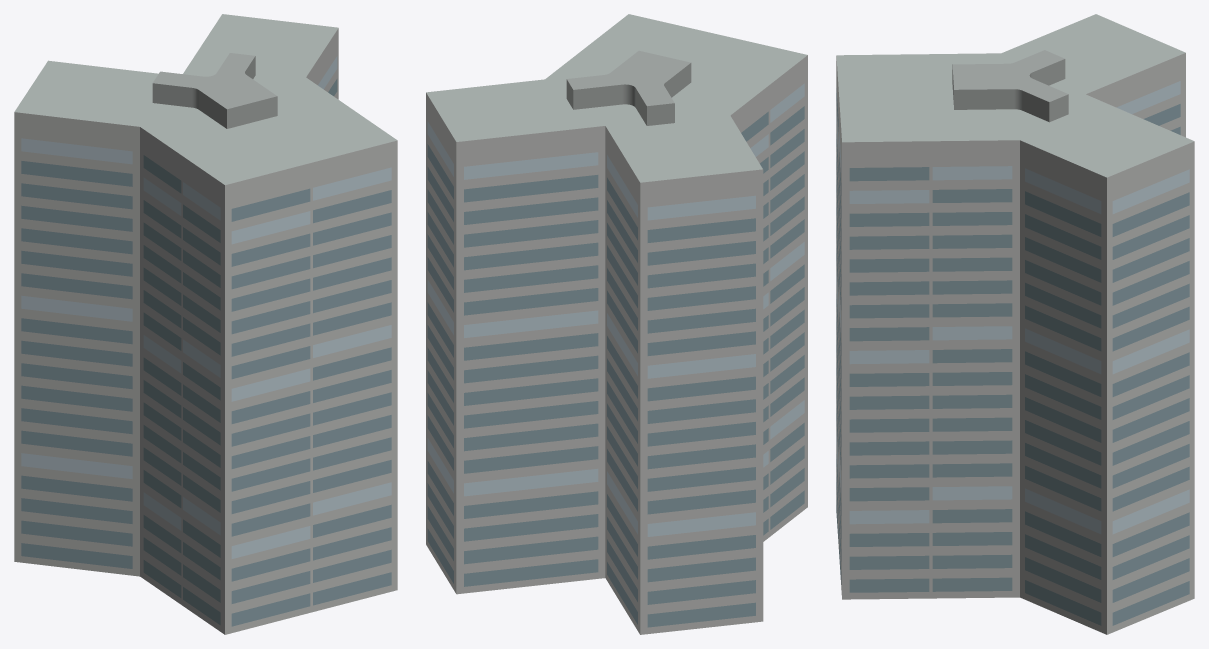
File: fallback-godeok-ipark-108.glb
3 views of the same model, side by side, from view 1: azimuth 30°, elevation 25°; view 2: azimuth 150°, elevation 25°; view 3: azimuth 270°, elevation 25° (orthographic).
Parts seen in each view (by area): view 1: fallback-godeok-ipark-108; view 2: fallback-godeok-ipark-108; view 3: fallback-godeok-ipark-108.
Part boxes in pixels (x1,y1,x2,y2): fallback-godeok-ipark-108: [14, 14, 397, 634]; fallback-godeok-ipark-108: [426, 14, 807, 634]; fallback-godeok-ipark-108: [836, 14, 1194, 634].
Size of the model in its own units: 41.92 by 57 by 38.79.
